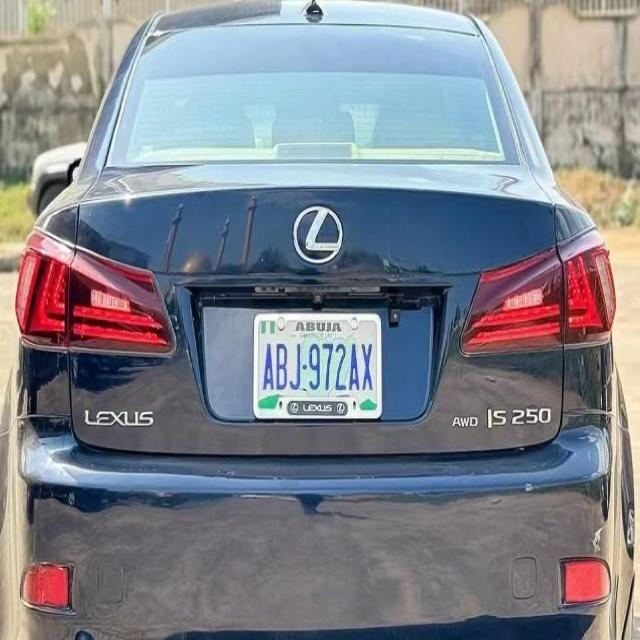Nigerian License Plate - vdataset benjamin-daria: (253, 308, 384, 424)
